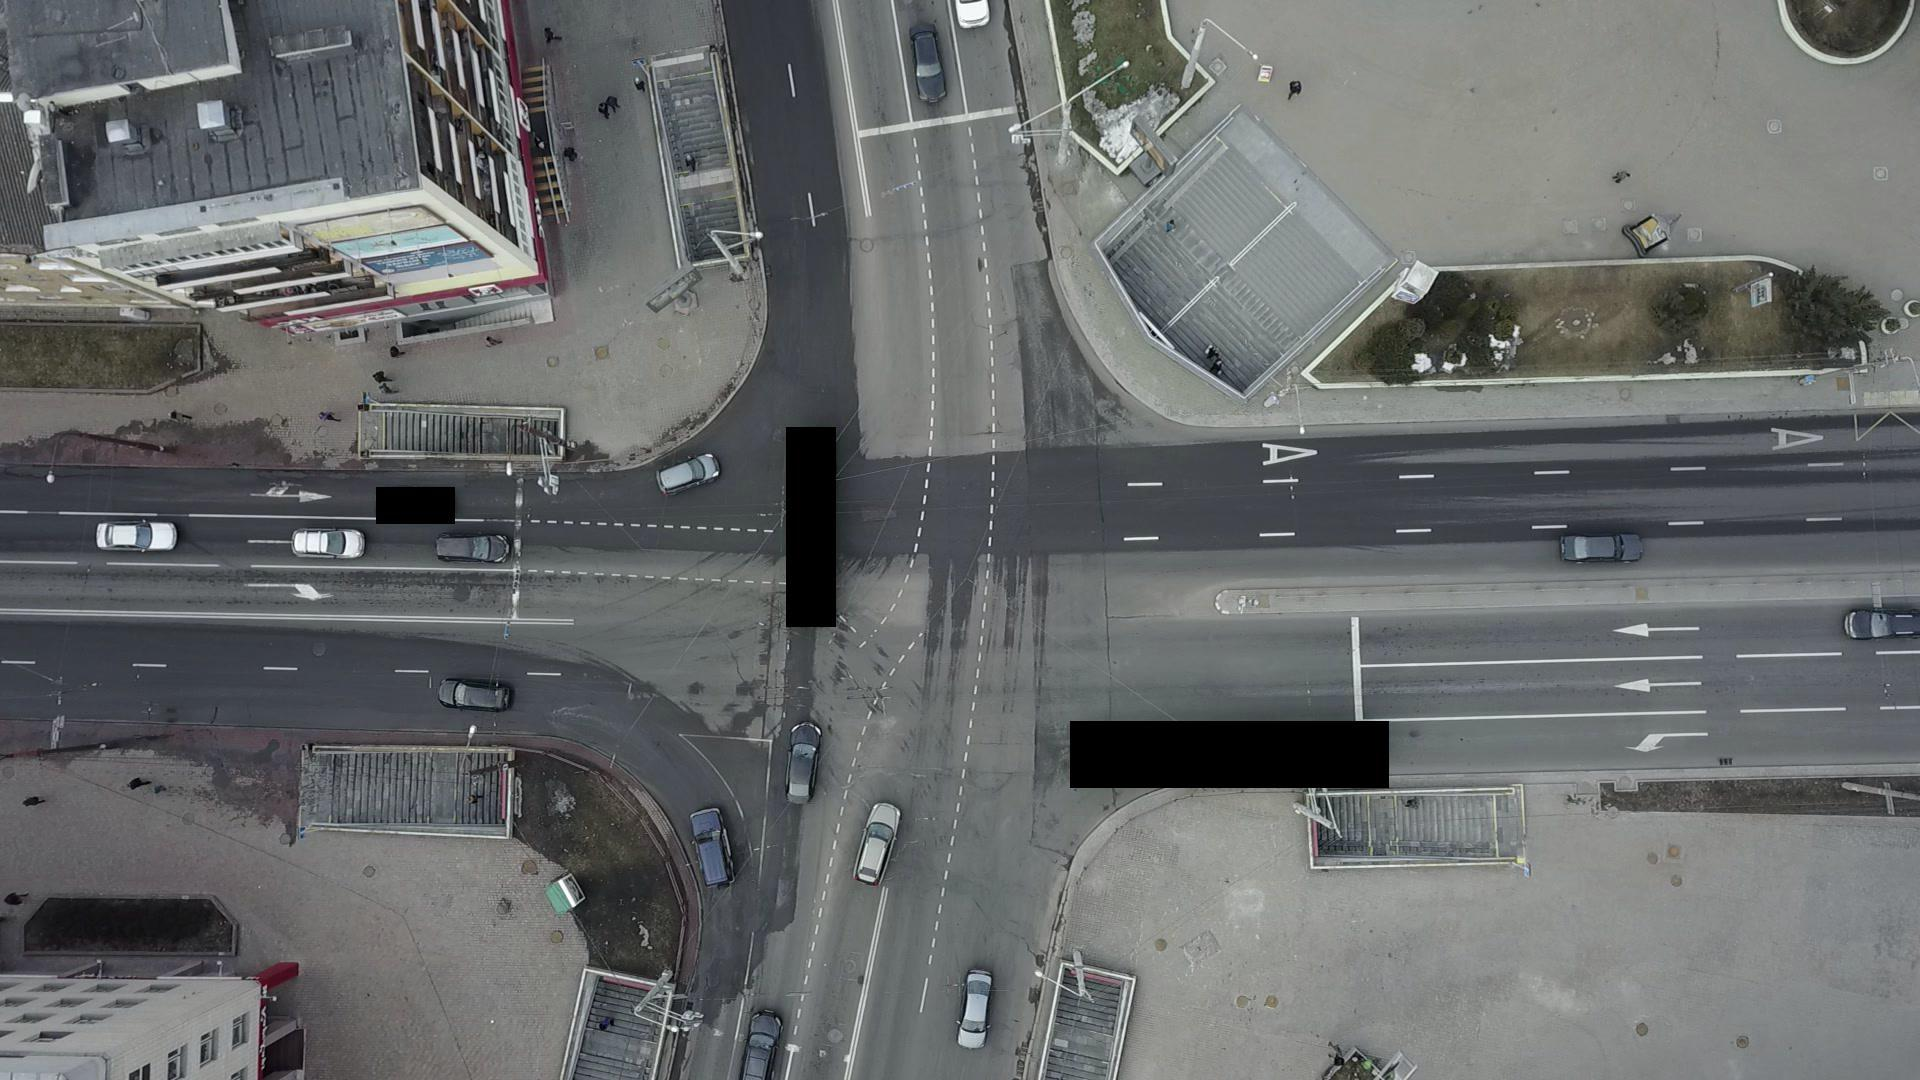vehicle: (851, 800, 905, 887), (688, 804, 738, 890), (782, 719, 825, 804), (953, 967, 996, 1050), (909, 22, 948, 104), (655, 451, 723, 498), (435, 676, 514, 713), (1557, 531, 1644, 564), (96, 518, 179, 553), (434, 530, 513, 564), (291, 526, 367, 560)
